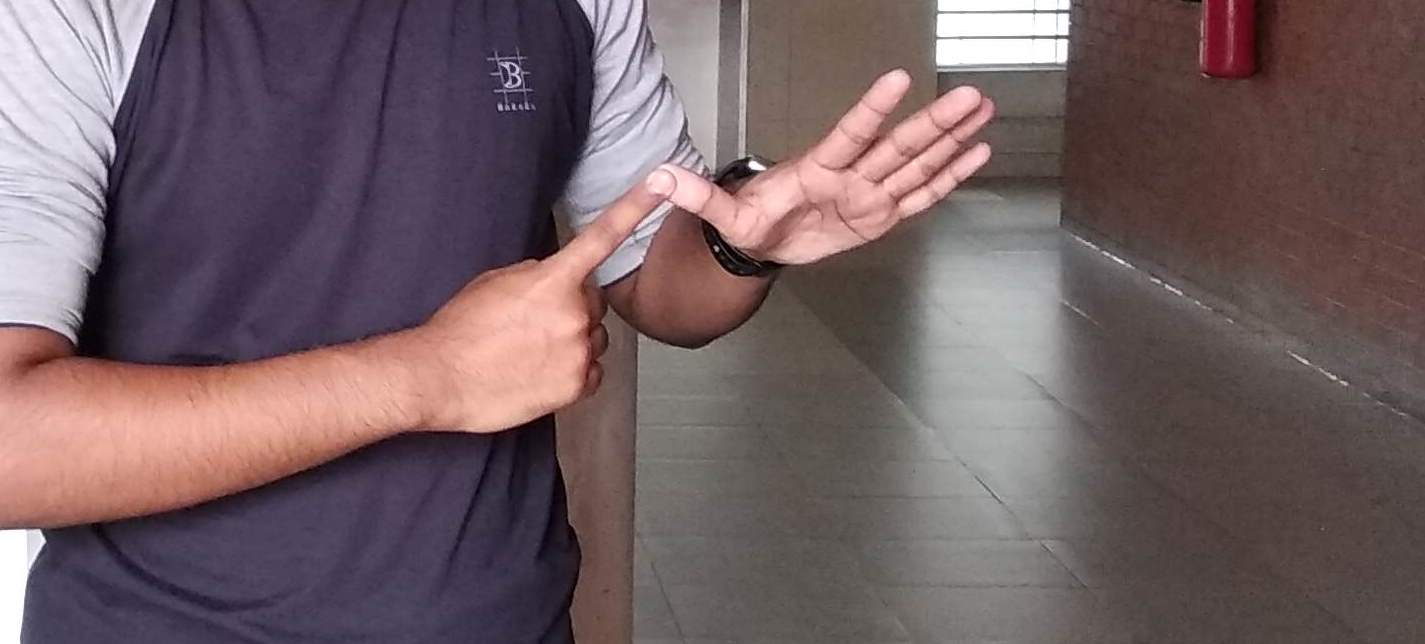a: (484, 70, 997, 386)
